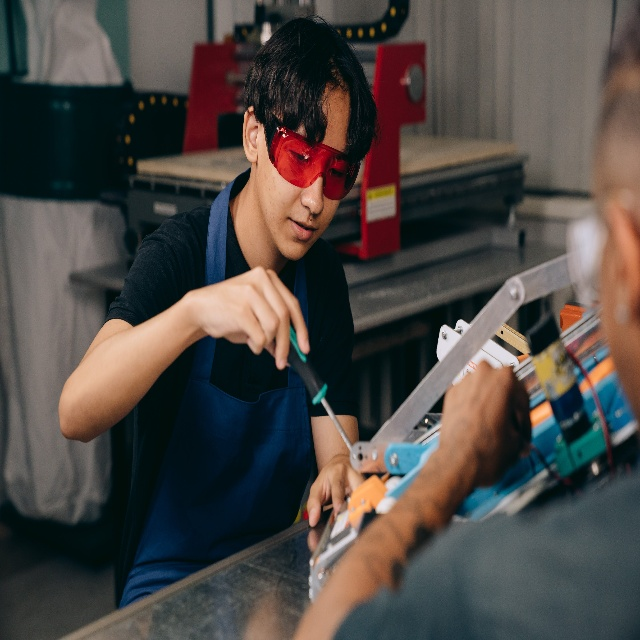Sin_guantes: (207, 263, 309, 371), (439, 364, 528, 476), (307, 454, 364, 525)
